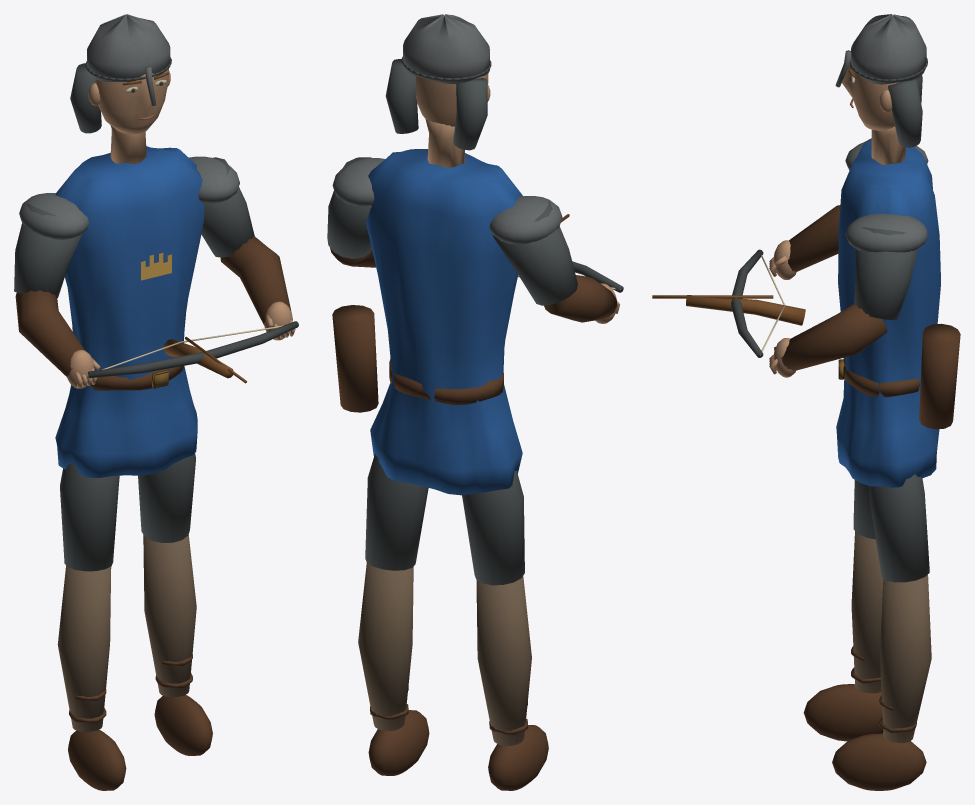
Rendered from SM_BallesteroNatural_A_LOD0.fbx.
3 renders of one model, left to right at view 1: azimuth 30°, elevation 25°; view 2: azimuth 150°, elevation 25°; view 3: azimuth 270°, elevation 25°, orthographic. The views are drawn at different scales.
Parts seen in each view (by area): view 1: SM_BallesteroNatural_A_LOD0; view 2: SM_BallesteroNatural_A_LOD0; view 3: SM_BallesteroNatural_A_LOD0.
Boxes of the visible parts, bbox=[...] form: SM_BallesteroNatural_A_LOD0: bbox=[14, 14, 298, 790]; SM_BallesteroNatural_A_LOD0: bbox=[327, 14, 623, 790]; SM_BallesteroNatural_A_LOD0: bbox=[652, 14, 960, 790].
Size of the model in its own units: 0.16 by 0.4377 by 0.163.
Materials: 1 (1 with a texture image).
